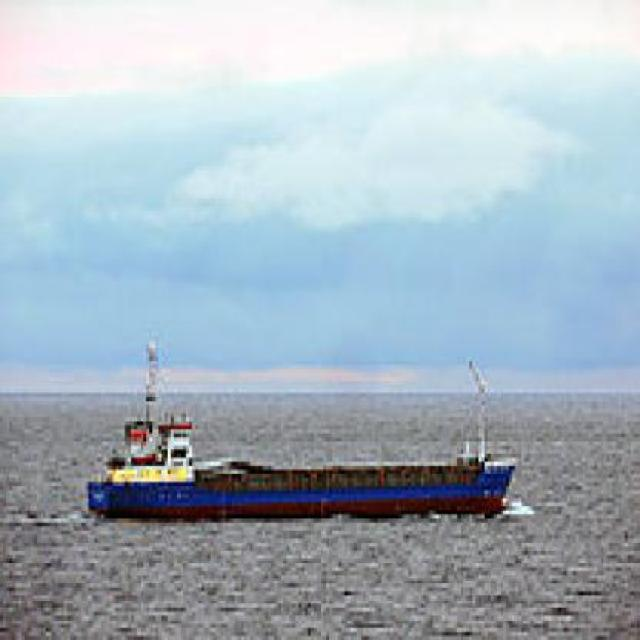container: (74, 325, 531, 536)
